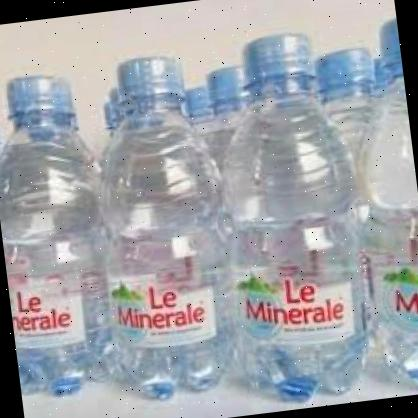bottle: (219, 25, 386, 404), (107, 51, 247, 394), (0, 55, 136, 390), (357, 15, 418, 387)
cap: (106, 49, 190, 112), (240, 31, 320, 92), (4, 70, 75, 122)
label: (230, 254, 370, 354), (101, 267, 236, 355), (8, 274, 124, 366), (374, 255, 418, 332)
